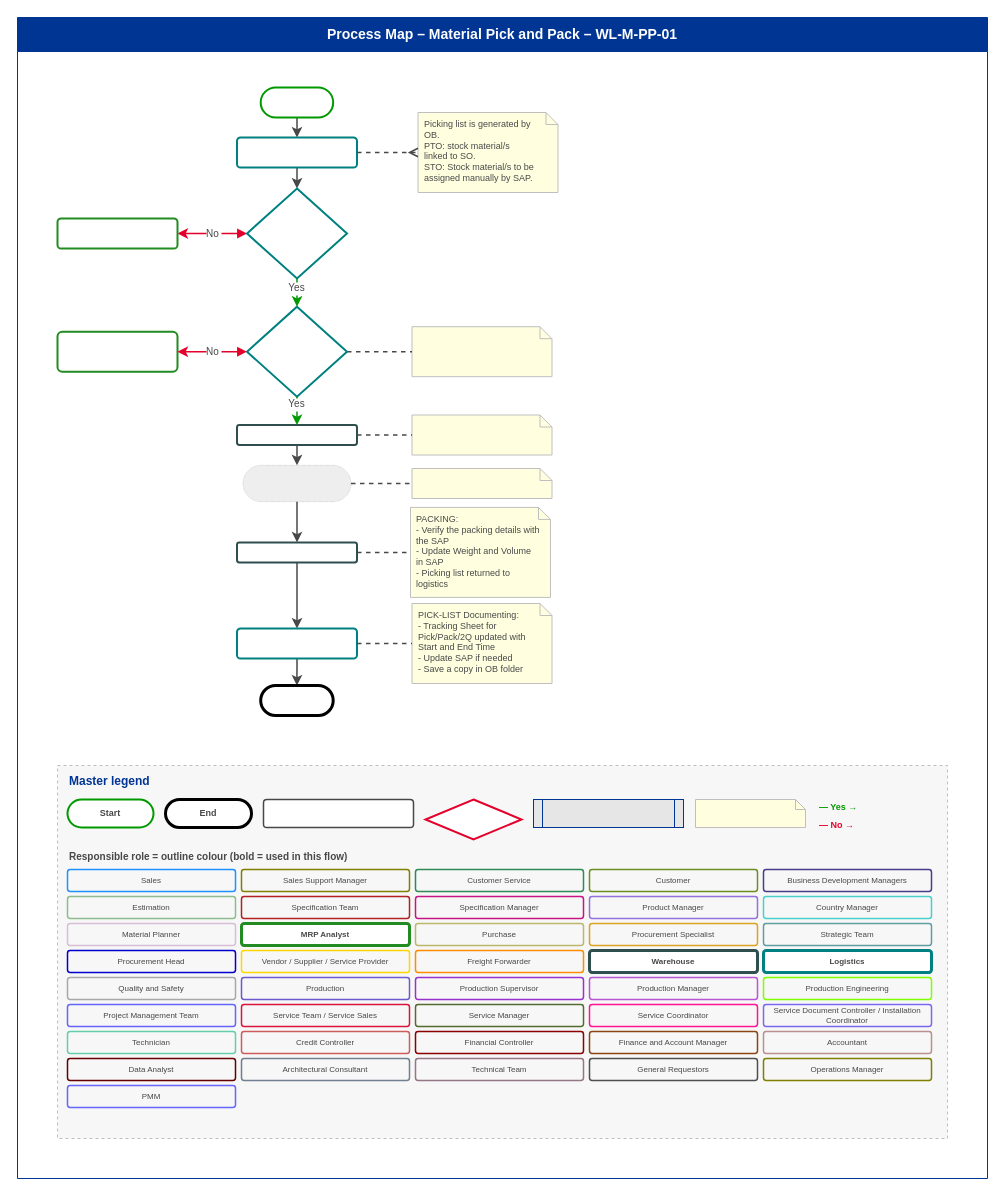
The diagram is 1005 pixels wide and 1196 high, and some of its shapes have lost their labels. The box of each missing label's shape, as (x1, y1, x2, y2) in pixels:
2Q CHECK Ref S#: WL-S-QC-01: (242, 465, 351, 501)
Activity (outline = role): (262, 798, 414, 828)
CHECK-LIST: HS code Country of Origin (COO) Check for missing information!: (411, 326, 552, 377)
Customer Service to provide missing information!: (56, 330, 178, 372)
Customer Service to released OB!: (56, 217, 178, 249)
Decision: (424, 798, 522, 840)
Documenting Picking List: (236, 627, 358, 659)
EXIT: (259, 684, 334, 716)
Linked process (Ref ID): (532, 798, 684, 828)
Materials Packed: (236, 541, 358, 563)
Materials Picked: (236, 424, 358, 446)
Note / checklist: (694, 798, 806, 828)
Outbound (OB) Released?: (246, 187, 348, 279)
PICK & PACK: (259, 86, 334, 118)
Picking List is received by Logistics: (236, 136, 358, 168)
Picking List verified as per CHECK-LIST ?: (246, 305, 348, 397)
Update PICK-LIST: Note Start & End Time: (411, 468, 552, 498)
VALIDATE PICK-LIST: - Note the Discrepancy - Note Start & End Time: (411, 414, 552, 455)
